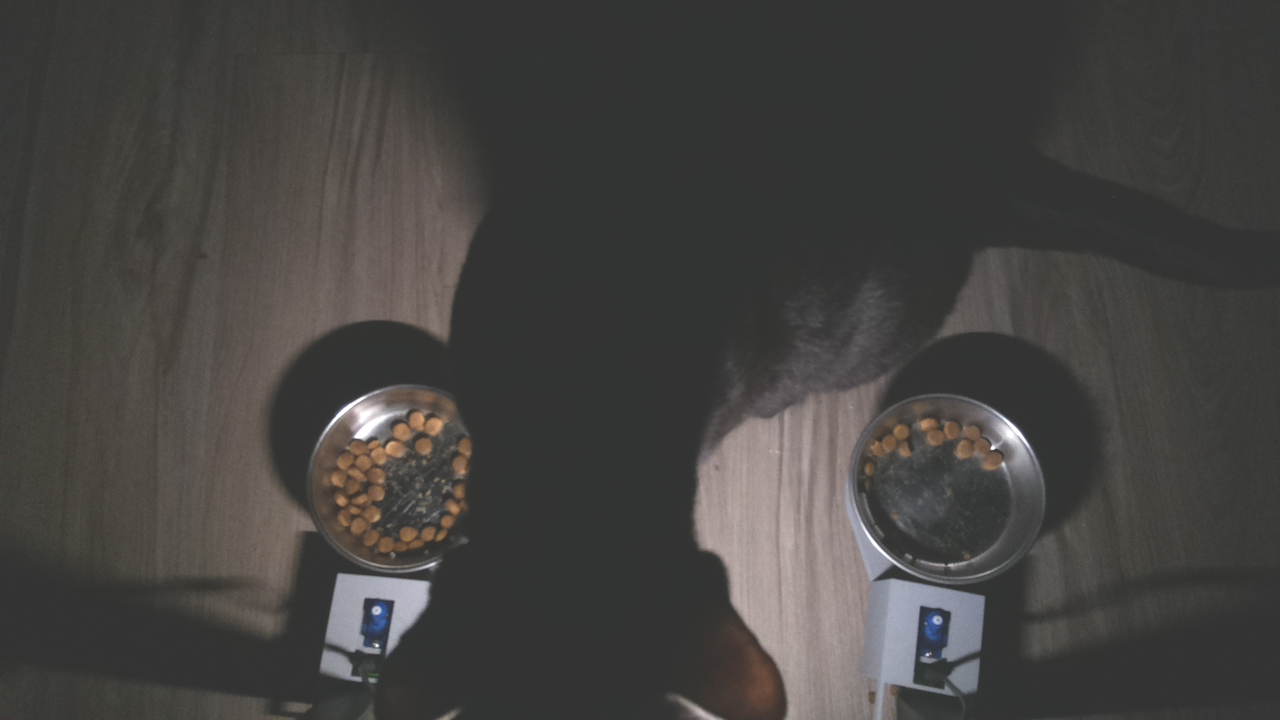open_bowl: (840, 391, 1057, 598), (304, 373, 482, 575)
